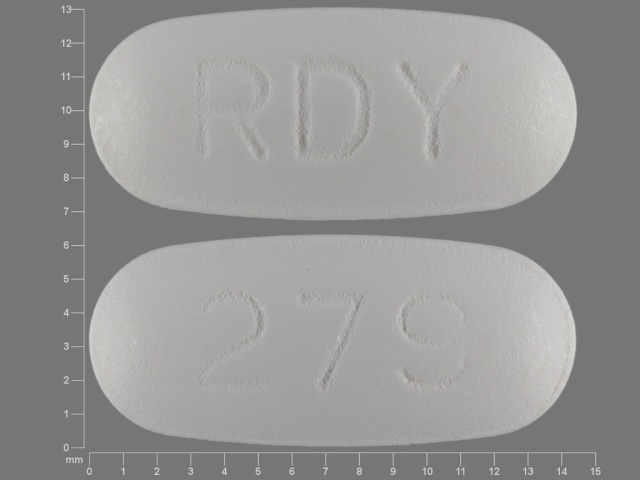2: (192, 286, 277, 396)
7: (294, 287, 372, 395)
9: (393, 290, 476, 400)
D: (292, 55, 379, 167)
R: (186, 57, 279, 165)
Y: (389, 56, 471, 165)
